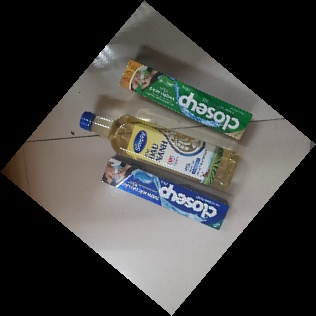CloseUp Tuyet: (101, 155, 231, 231)
CloseUp Xanh: (117, 58, 254, 142)
Simply: (80, 110, 238, 191)
